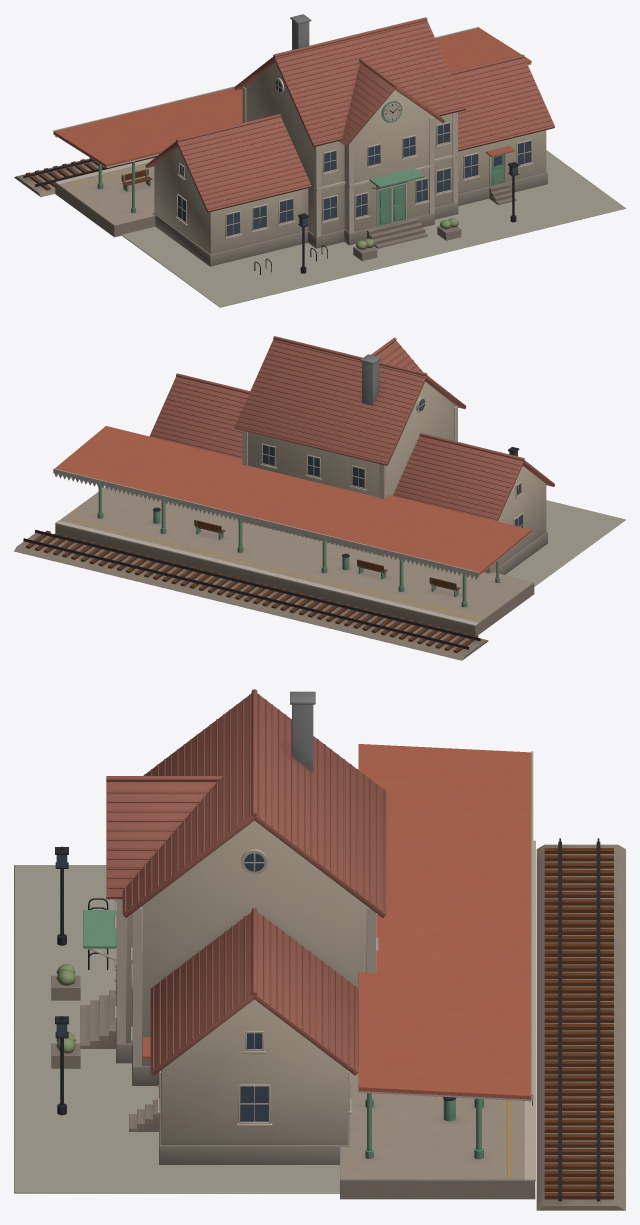
Rendered from station.glb.
3 views of the same model, one above another, from view 1: azimuth 30°, elevation 25°; view 2: azimuth 150°, elevation 25°; view 3: azimuth 270°, elevation 25° (orthographic). The views are drawn at different scales.
Parts seen in each view (by area): view 1: train-station_roof, train-station_shell, train-station_body, train-station_ground_slab, train-station_facade, train-station_valance; view 2: train-station_body, train-station_roof, train-station_shell, train-station_ground_slab, train-station_valance, train-station_facade; view 3: train-station_body, train-station_roof, train-station_shell, train-station_ground_slab, train-station_facade, train-station_valance.
Boxes of the visible parts, x1,y1,x2,y2 form: train-station_roof: (145, 14, 554, 212); train-station_shell: (152, 63, 547, 266); train-station_body: (14, 28, 531, 274); train-station_ground_slab: (121, 150, 625, 307); train-station_facade: (175, 78, 533, 248); train-station_valance: (53, 26, 479, 137); train-station_body: (14, 426, 534, 660); train-station_roof: (149, 336, 554, 521); train-station_shell: (244, 381, 547, 574); train-station_ground_slab: (505, 500, 625, 586); train-station_valance: (53, 468, 479, 579); train-station_facade: (242, 397, 523, 555); train-station_body: (51, 744, 625, 1210); train-station_roof: (106, 689, 386, 1075); train-station_shell: (116, 820, 367, 1164); train-station_ground_slab: (14, 865, 339, 1193); train-station_facade: (80, 849, 378, 1131); train-station_valance: (531, 751, 533, 1105).
Size of the model in its own units: 32 by 12.6 by 22.9.
Materials: 6 (4 with a texture image).
